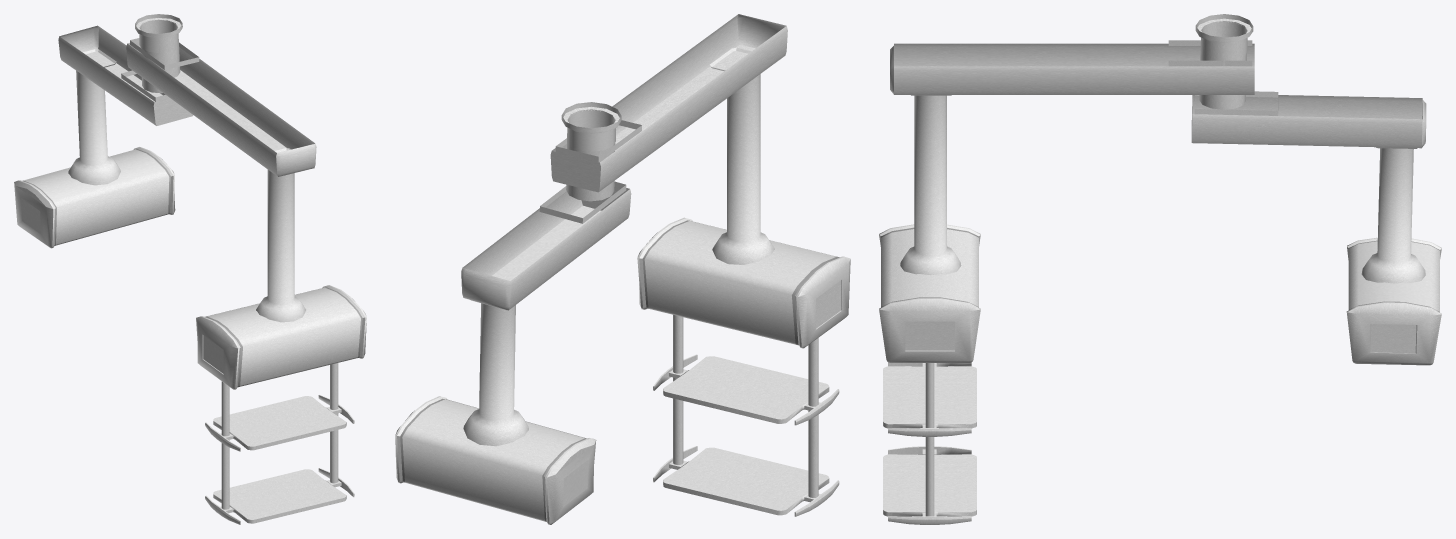
File: Electronic_Manifold.fbx
3 renders of one model, left to right at view 1: azimuth 30°, elevation 25°; view 2: azimuth 150°, elevation 25°; view 3: azimuth 270°, elevation 25°, orthographic. The views are drawn at different scales.
Parts seen in each view (by area): view 1: Electronic_Manifold_Extra, Electronic_Manifold; view 2: Electronic_Manifold_Extra, Electronic_Manifold; view 3: Electronic_Manifold_Extra, Electronic_Manifold.
Part boxes in pixels (x1,y1,x2,y2): Electronic_Manifold_Extra: [126, 14, 366, 524]; Electronic_Manifold: [14, 14, 193, 248]; Electronic_Manifold_Extra: [550, 14, 850, 516]; Electronic_Manifold: [395, 102, 631, 524]; Electronic_Manifold_Extra: [879, 14, 1254, 524]; Electronic_Manifold: [1191, 15, 1441, 365].
Size of the model in its own units: 84.89 by 225 by 246.
